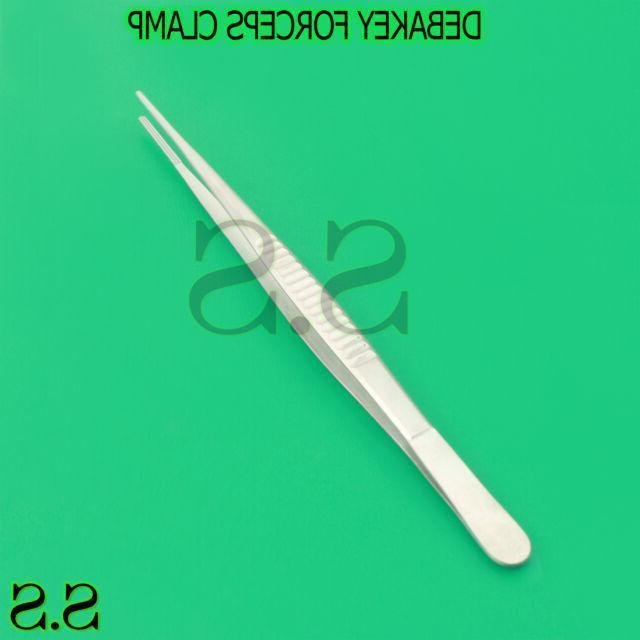Forceps: (132, 85, 534, 570)
